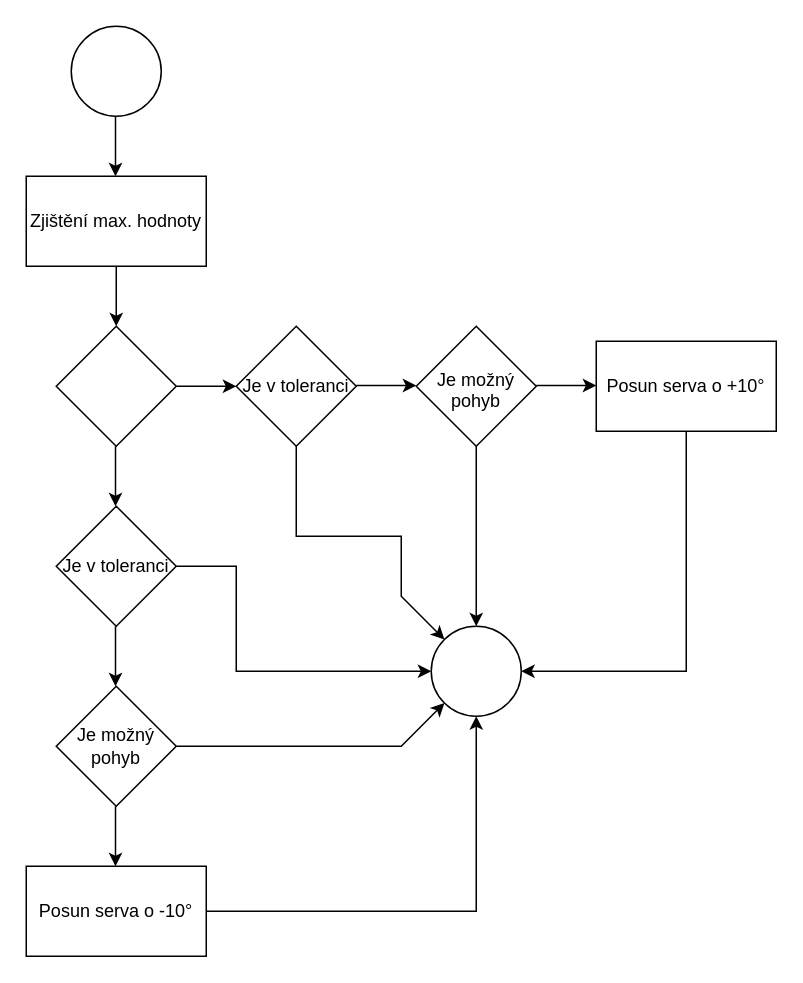
The diagram is 803 pixels wide and 983 high, and some of its shapes have lost their labels. Here are the shapes that lost their labels. From the top down, the centre of each, then its label:
(x=115, y=70): Start
(x=115, y=385): Řada s max.
(x=475, y=670): Konec
